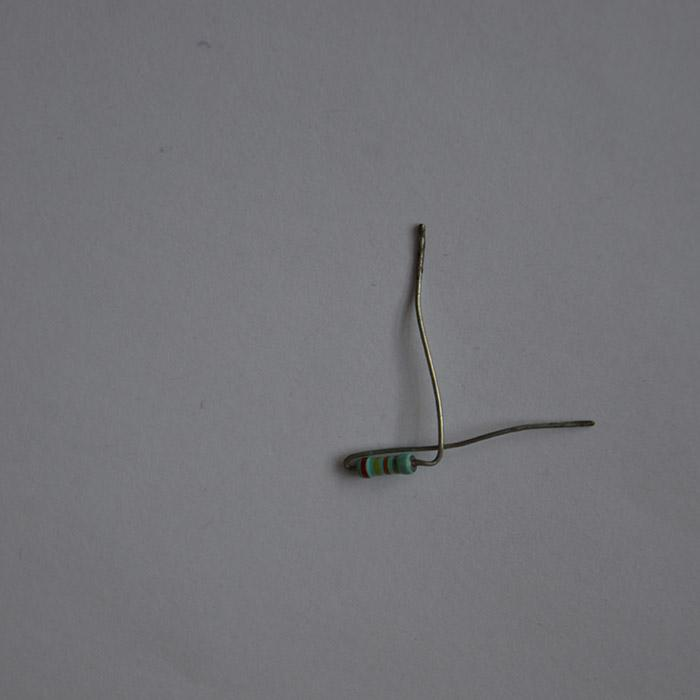resistor: (356, 451, 416, 478)
